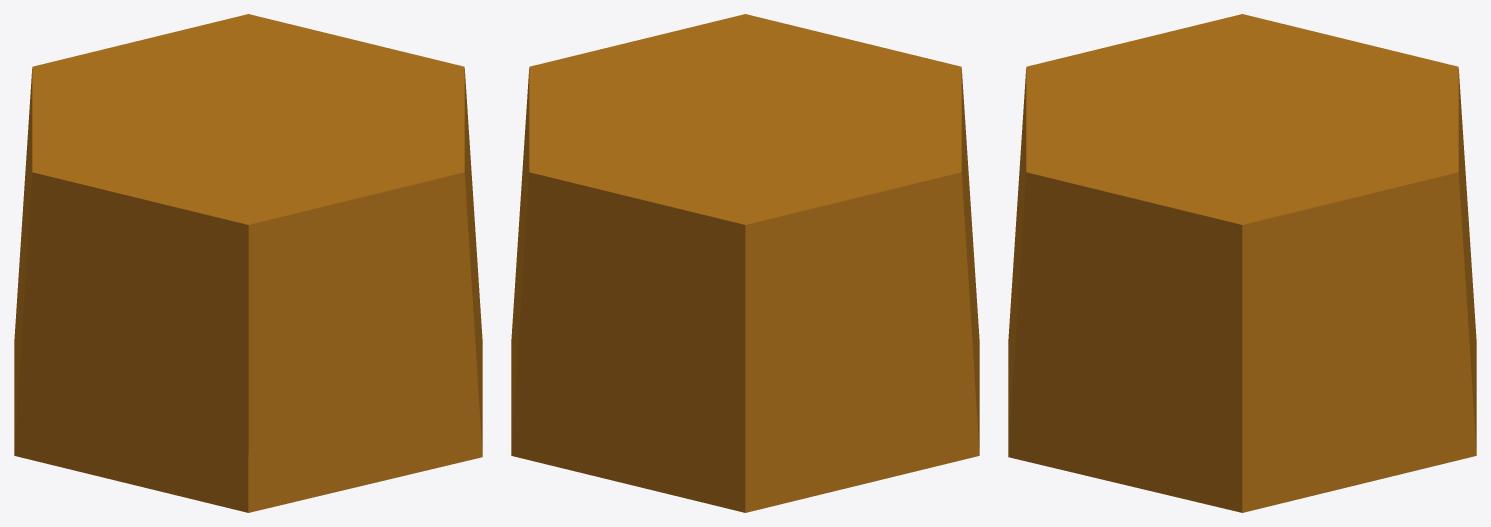
The model's file is Screw_Base.fbx.
3 renders of one model, left to right at view 1: azimuth 30°, elevation 25°; view 2: azimuth 150°, elevation 25°; view 3: azimuth 270°, elevation 25°, orthographic.
Parts seen in each view (by area): view 1: Screw_Base; view 2: Screw_Base; view 3: Screw_Base.
Boxes of the visible parts, <box> form: Screw_Base: <box>14,14,482,512</box>; Screw_Base: <box>511,14,979,512</box>; Screw_Base: <box>1008,14,1476,512</box>.
Bounding box in the file's own units: 0.6943 × 0.3975 × 0.6013.
